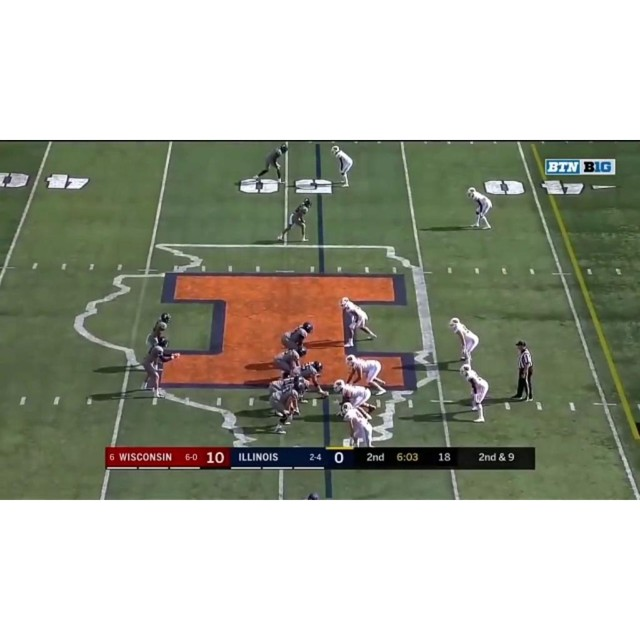american-football-player: (140, 336, 179, 401), (339, 295, 378, 347), (459, 362, 490, 423), (269, 382, 305, 434), (338, 401, 376, 448), (345, 353, 387, 395), (277, 197, 312, 244), (332, 378, 374, 416), (449, 317, 480, 367), (293, 360, 328, 400), (254, 144, 289, 183), (467, 186, 493, 230), (280, 321, 314, 353), (272, 345, 307, 375), (331, 145, 354, 188)
referee: (510, 340, 534, 402)
